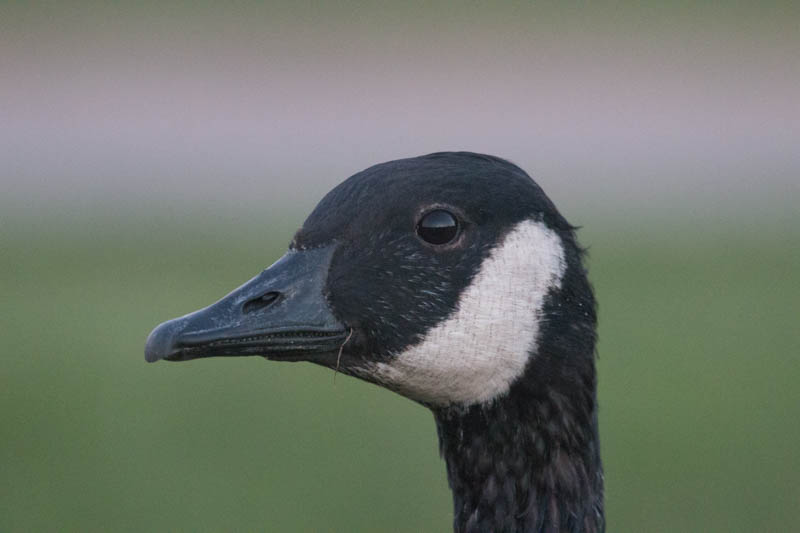goose-head: (145, 151, 597, 417)
